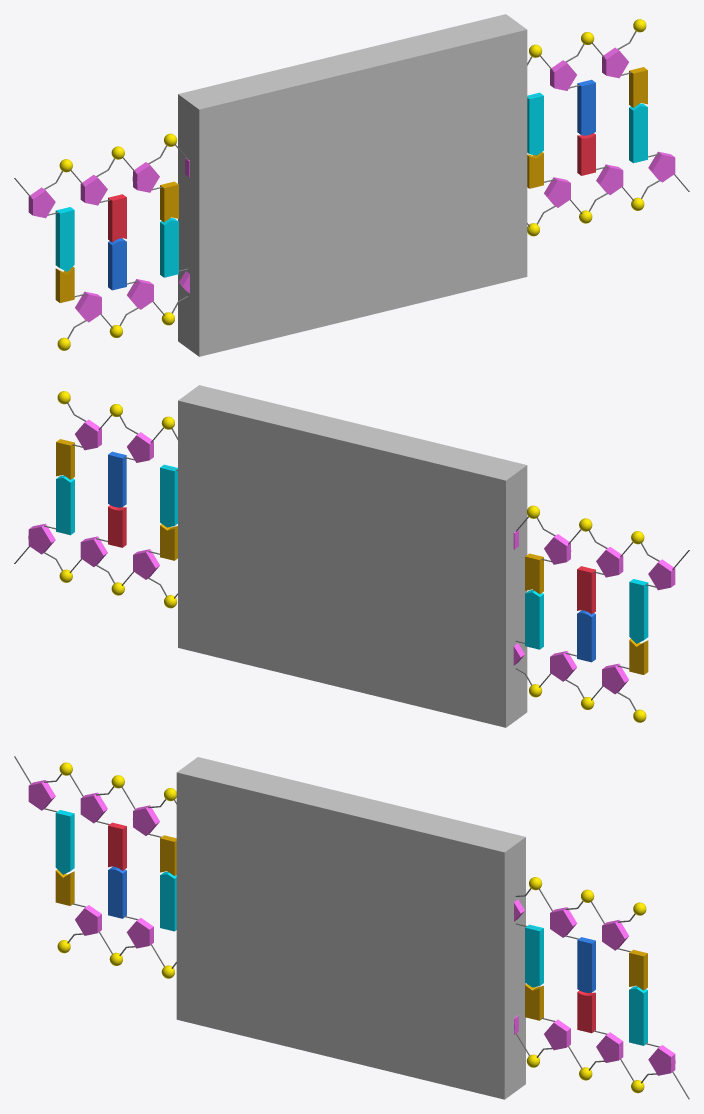
The model's file is dna2.obj.
The picture shows the model from 3 angles, top to bottom: view 1: azimuth 30°, elevation 25°; view 2: azimuth 150°, elevation 25°; view 3: azimuth 330°, elevation 25°; orthographic projection.
Parts seen in each view (by area): view 1: zhaozi polySurface1, group2 polySurface1097 polySurface1, group1 polySurface1219 polySurface1, group2 polySurface1102 polySurface1, group1 polySurface1150 polySurface1, group1 polySurface1151 polySurface1, group2 polySurface1100 polySurface1, group2 polySurface1099 polySurface1, group1 polySurface1218 polySurface1, group1 polySurface1152 polySurface1, group2 polySurface1101 polySurface1, group2 polySurface1098 polySurface1 (+11 smaller); view 2: zhaozi polySurface1, group2 polySurface1097 polySurface1, group1 polySurface1150 polySurface1, group1 polySurface1219 polySurface1, group2 polySurface1102 polySurface1, group1 polySurface1151 polySurface1, group2 polySurface1100 polySurface1, group2 polySurface1099 polySurface1, group1 polySurface1218 polySurface1, group1 polySurface1152 polySurface1, group2 polySurface1101 polySurface1, group2 polySurface1098 polySurface1 (+11 smaller); view 3: zhaozi polySurface1, group2 polySurface1097 polySurface1, group1 polySurface1150 polySurface1, group1 polySurface1219 polySurface1, group1 polySurface1151 polySurface1, group2 polySurface1102 polySurface1, group2 polySurface1100 polySurface1, group2 polySurface1099 polySurface1, group1 polySurface1218 polySurface1, group1 polySurface1152 polySurface1, group2 polySurface1098 polySurface1, group1 polySurface1217 polySurface1 (+11 smaller).
Part boxes in pixels (x1,y1,x2,y2): zhaozi polySurface1: [178, 14, 527, 356]; group2 polySurface1097 polySurface1: [55, 207, 74, 271]; group1 polySurface1219 polySurface1: [629, 103, 647, 163]; group2 polySurface1102 polySurface1: [160, 218, 178, 277]; group1 polySurface1150 polySurface1: [527, 92, 543, 155]; group1 polySurface1151 polySurface1: [577, 79, 595, 135]; group2 polySurface1100 polySurface1: [108, 238, 126, 290]; group2 polySurface1099 polySurface1: [108, 194, 126, 242]; group1 polySurface1218 polySurface1: [577, 133, 595, 175]; group1 polySurface1152 polySurface1: [629, 67, 647, 107]; group2 polySurface1101 polySurface1: [160, 181, 178, 222]; group2 polySurface1098 polySurface1: [55, 267, 74, 302]; zhaozi polySurface1: [178, 385, 527, 727]; group2 polySurface1097 polySurface1: [629, 579, 648, 643]; group1 polySurface1150 polySurface1: [160, 464, 177, 527]; group1 polySurface1219 polySurface1: [56, 475, 74, 535]; group2 polySurface1102 polySurface1: [525, 590, 543, 649]; group1 polySurface1151 polySurface1: [108, 451, 126, 507]; group2 polySurface1100 polySurface1: [577, 610, 595, 662]; group2 polySurface1099 polySurface1: [577, 566, 595, 614]; group1 polySurface1218 polySurface1: [108, 505, 126, 547]; group1 polySurface1152 polySurface1: [56, 439, 74, 479]; group2 polySurface1101 polySurface1: [525, 553, 543, 594]; group2 polySurface1098 polySurface1: [629, 639, 648, 674]; zhaozi polySurface1: [176, 757, 525, 1099]; group2 polySurface1097 polySurface1: [55, 810, 74, 874]; group1 polySurface1150 polySurface1: [525, 924, 543, 987]; group1 polySurface1219 polySurface1: [629, 986, 647, 1045]; group1 polySurface1151 polySurface1: [577, 937, 595, 992]; group2 polySurface1102 polySurface1: [160, 871, 176, 931]; group2 polySurface1100 polySurface1: [108, 866, 126, 918]; group2 polySurface1099 polySurface1: [108, 822, 126, 870]; group1 polySurface1218 polySurface1: [577, 990, 595, 1033]; group1 polySurface1152 polySurface1: [629, 949, 647, 990]; group2 polySurface1098 polySurface1: [55, 869, 74, 905]; group1 polySurface1217 polySurface1: [525, 984, 543, 1020].
Bounding box in the file's own units: 99.51 × 34.79 × 5.41.
